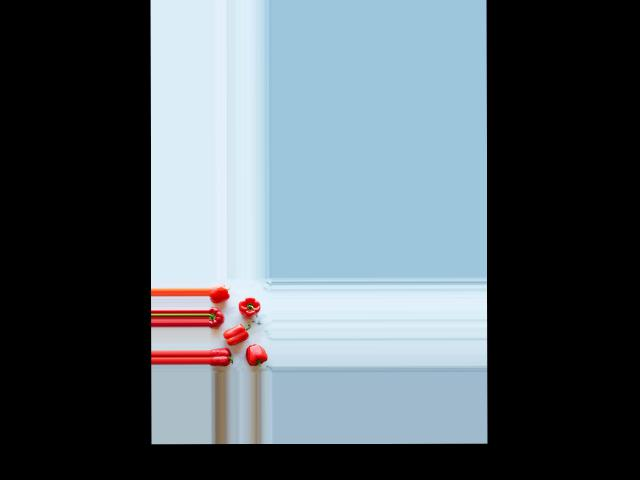bell_pepper: (209, 307, 225, 328)
